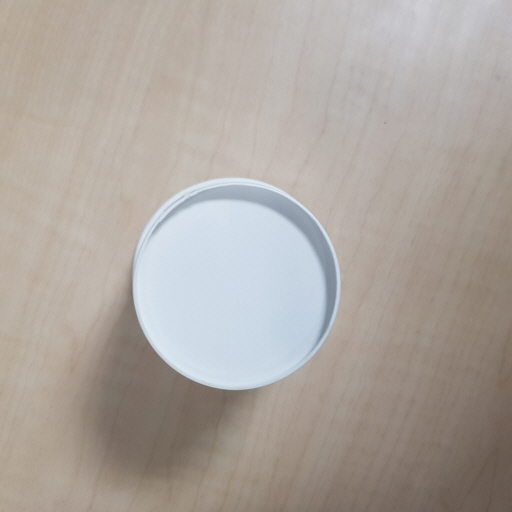Paper_1: (125, 173, 341, 393)
